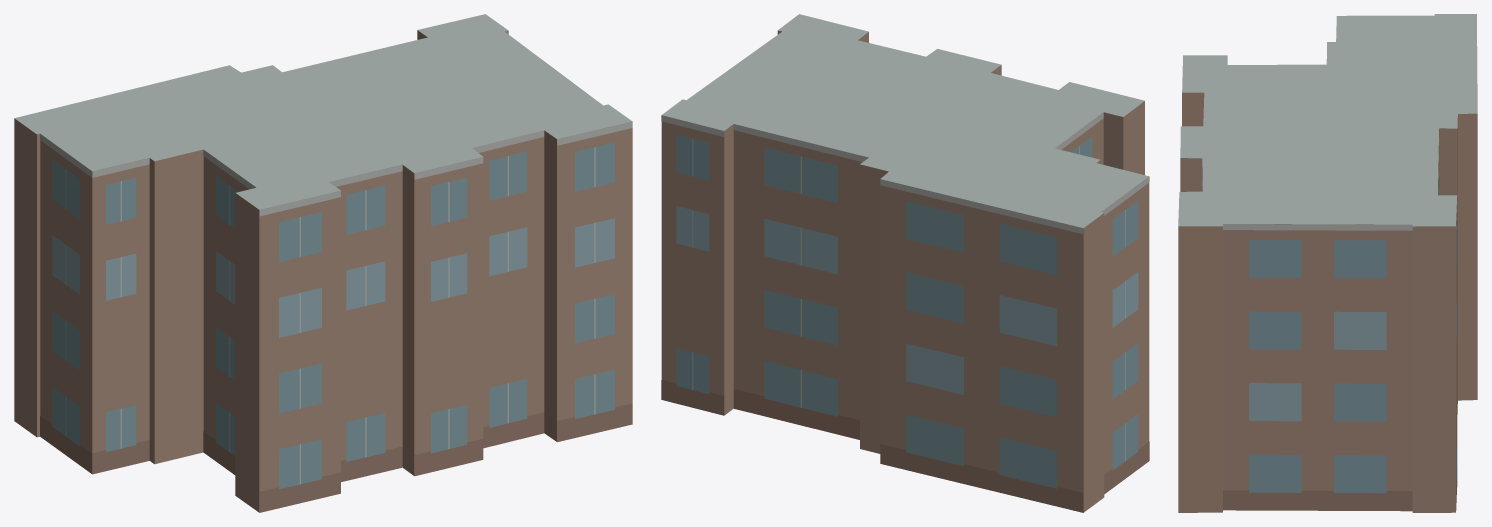
File: survey-upis-32603316.glb
The picture shows the model from 3 angles, left to right: view 1: azimuth 30°, elevation 25°; view 2: azimuth 150°, elevation 25°; view 3: azimuth 270°, elevation 25°; orthographic projection. The views are drawn at different scales.
Visible parts, largest first — view 1: survey-upis-32603316.tmp; view 2: survey-upis-32603316.tmp; view 3: survey-upis-32603316.tmp.
Boxes of the visible parts, <box> form: survey-upis-32603316.tmp: <box>14,14,632,512</box>; survey-upis-32603316.tmp: <box>661,14,1149,512</box>; survey-upis-32603316.tmp: <box>1178,14,1477,512</box>.
Size of the model in its own units: 17.98 by 11.3 by 10.72.
